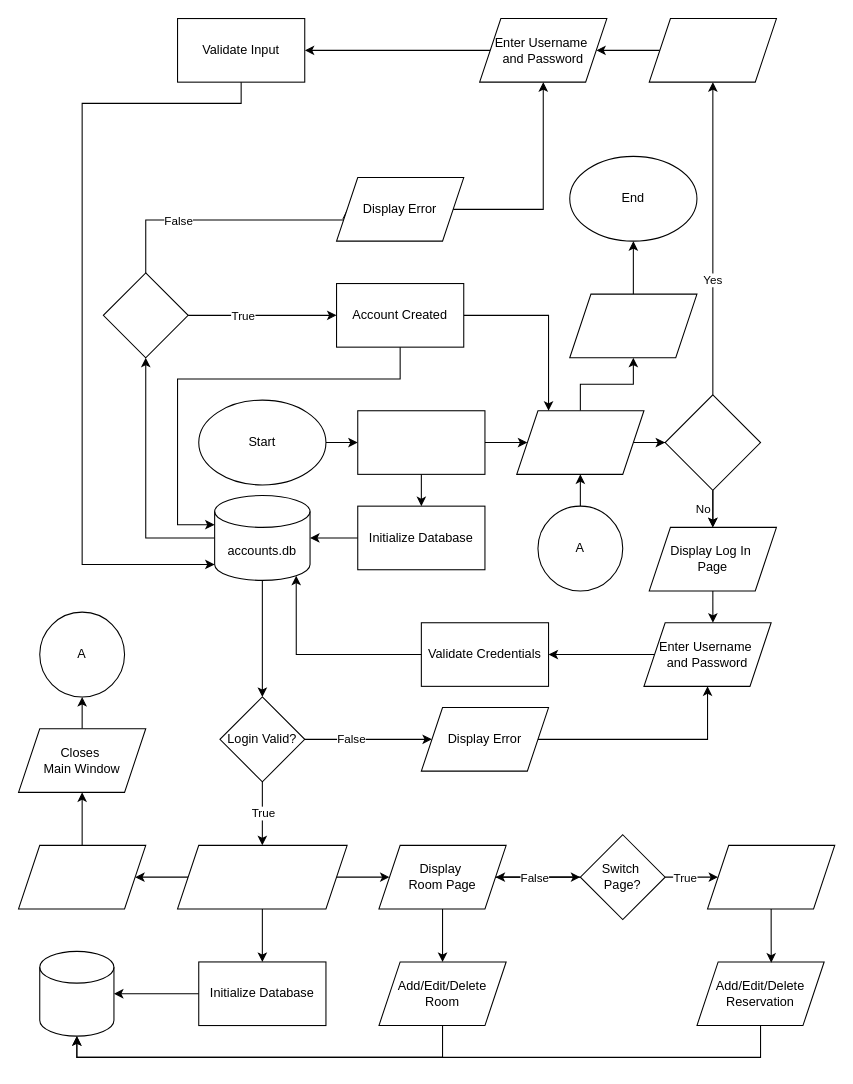
This 853x1084 diagram has some shape labels left out. The centre of each missing label's shape, as x and y in pixels:
"Database based on Username" goes at pixel 76 993.
"Display Login Dialog" goes at pixel 580 442.
"Display Reservation Page" goes at pixel 770 876.
"Display Sign Up Page" goes at pixel 712 49.
"Exit" goes at pixel 633 325.
"Initialize Login" goes at pixel 421 442.
"Login Dialog Closes and Main Window Shows" goes at pixel 261 876.
"Logout" goes at pixel 81 876.
"No Account Yet?" goes at pixel 712 442.
"Sign Up Valid?" goes at pixel 145 315.
